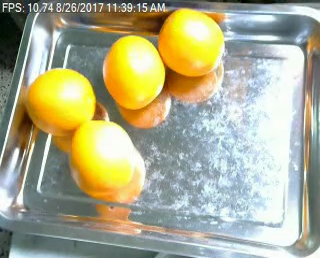Orange: (70, 120, 136, 198), (102, 35, 166, 111), (25, 68, 95, 136), (157, 9, 224, 78)
